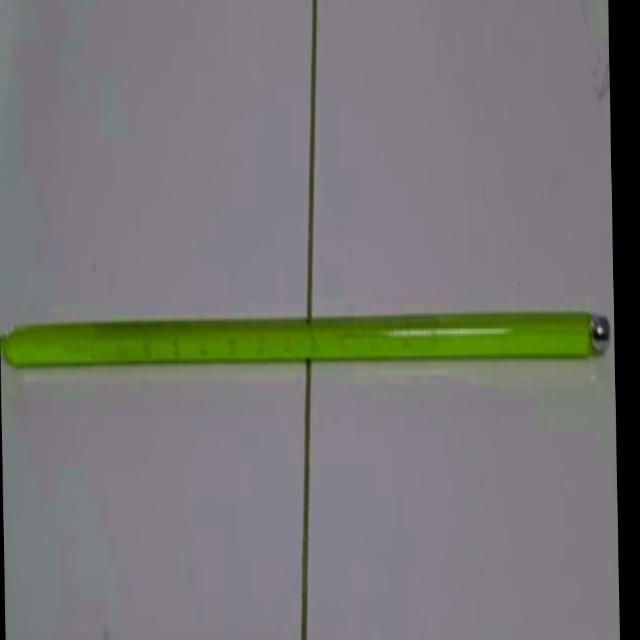Thermometer: (0, 291, 615, 381)
